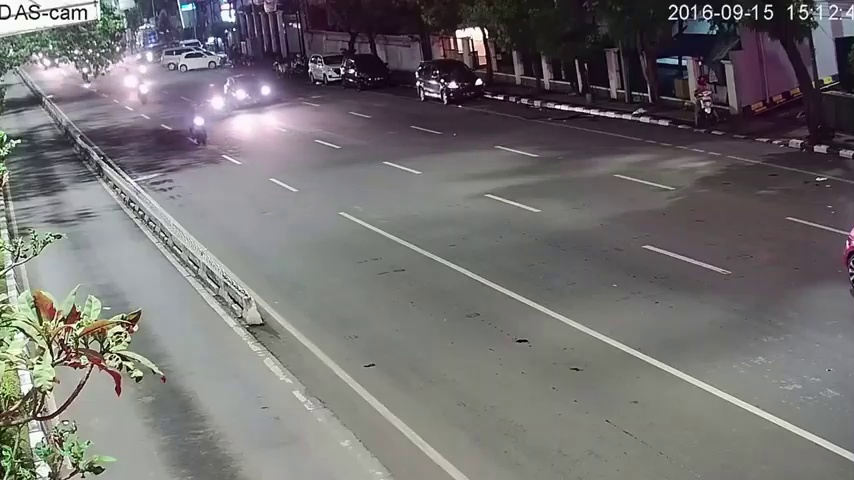car: (414, 60, 485, 106), (341, 51, 387, 92), (224, 75, 272, 111), (307, 51, 342, 87)
motorbike: (691, 73, 715, 124), (185, 105, 208, 146), (208, 85, 227, 118)
